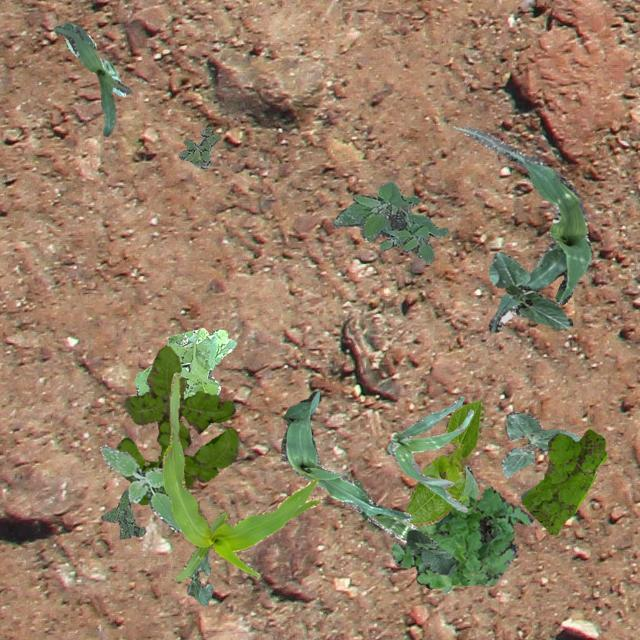crop: (162, 372, 318, 582), (453, 125, 591, 332), (280, 390, 436, 546), (404, 398, 484, 526), (387, 396, 472, 512), (52, 24, 132, 136), (488, 252, 570, 328), (502, 412, 580, 476), (61, 21, 126, 96), (442, 466, 478, 592), (406, 528, 456, 574), (186, 552, 212, 606)
weed: (115, 344, 238, 504), (389, 486, 532, 588), (330, 180, 448, 262), (520, 428, 606, 534), (134, 326, 235, 398), (98, 444, 180, 530), (100, 488, 144, 538), (178, 126, 220, 168)
